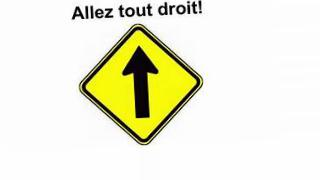forward: (121, 43, 161, 123)
